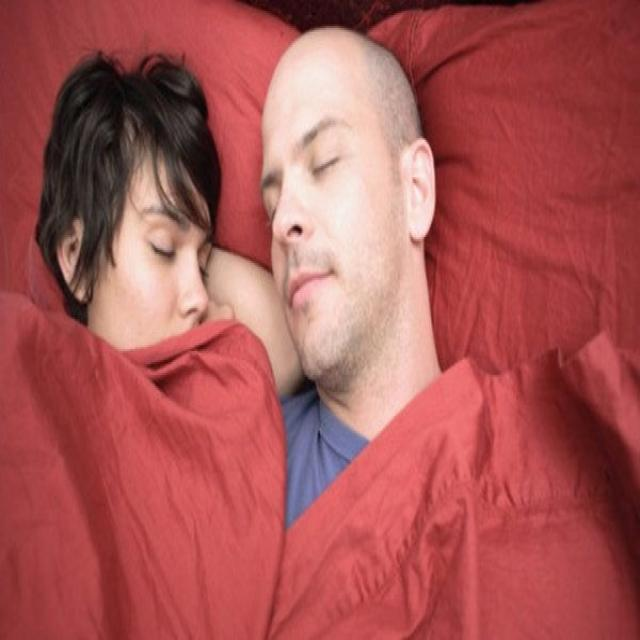nomask: (259, 36, 404, 378), (98, 162, 211, 388)
